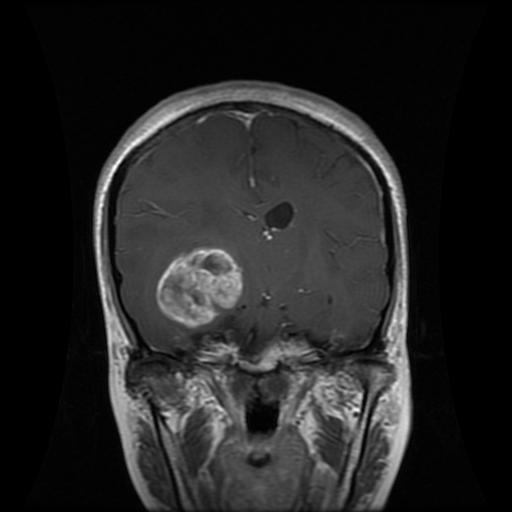Gliomia_tumour: (153, 244, 248, 329)
